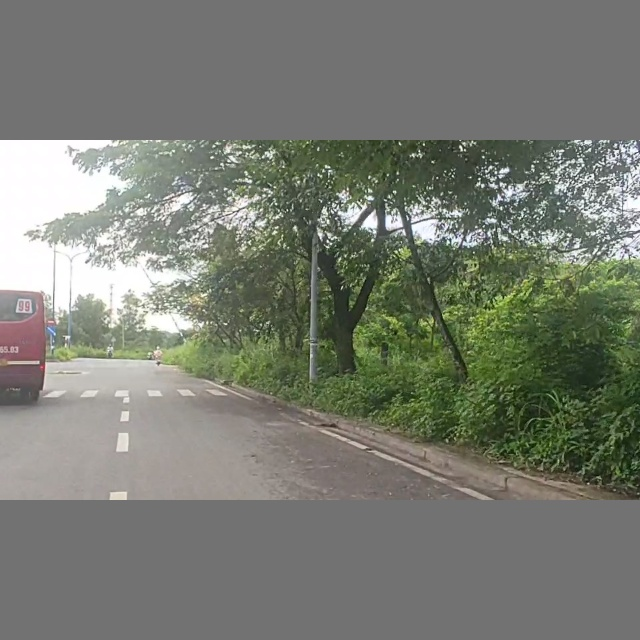P.102: (47, 318, 55, 325)
R.302a: (47, 325, 57, 335)
